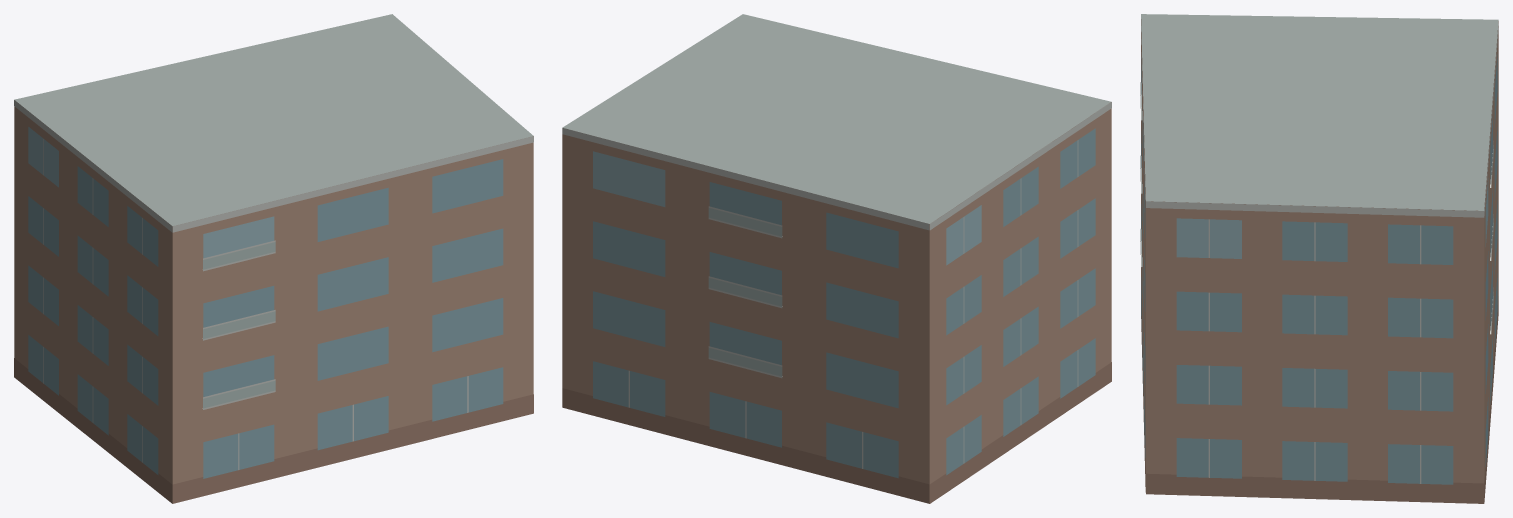
Rendered from survey-upis-32459813.glb.
3 renders of one model, left to right at view 1: azimuth 30°, elevation 25°; view 2: azimuth 150°, elevation 25°; view 3: azimuth 270°, elevation 25°, orthographic. The views are drawn at different scales.
Parts seen in each view (by area): view 1: survey-upis-32459813.tmp; view 2: survey-upis-32459813.tmp; view 3: survey-upis-32459813.tmp.
Part boxes in pixels (box(x1,y1,x2,y2)): survey-upis-32459813.tmp: box(14, 14, 533, 503); survey-upis-32459813.tmp: box(562, 14, 1111, 503); survey-upis-32459813.tmp: box(1140, 14, 1498, 503).
Bounding box in the file's own units: 15.16 × 10.51 × 11.66.
